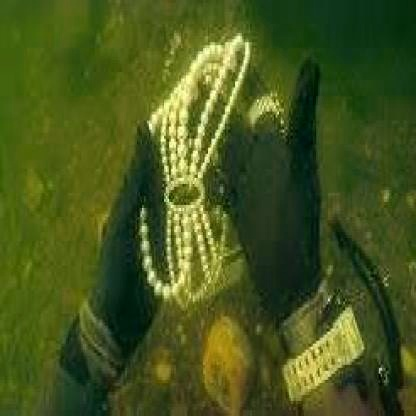misc: (137, 33, 254, 311)
